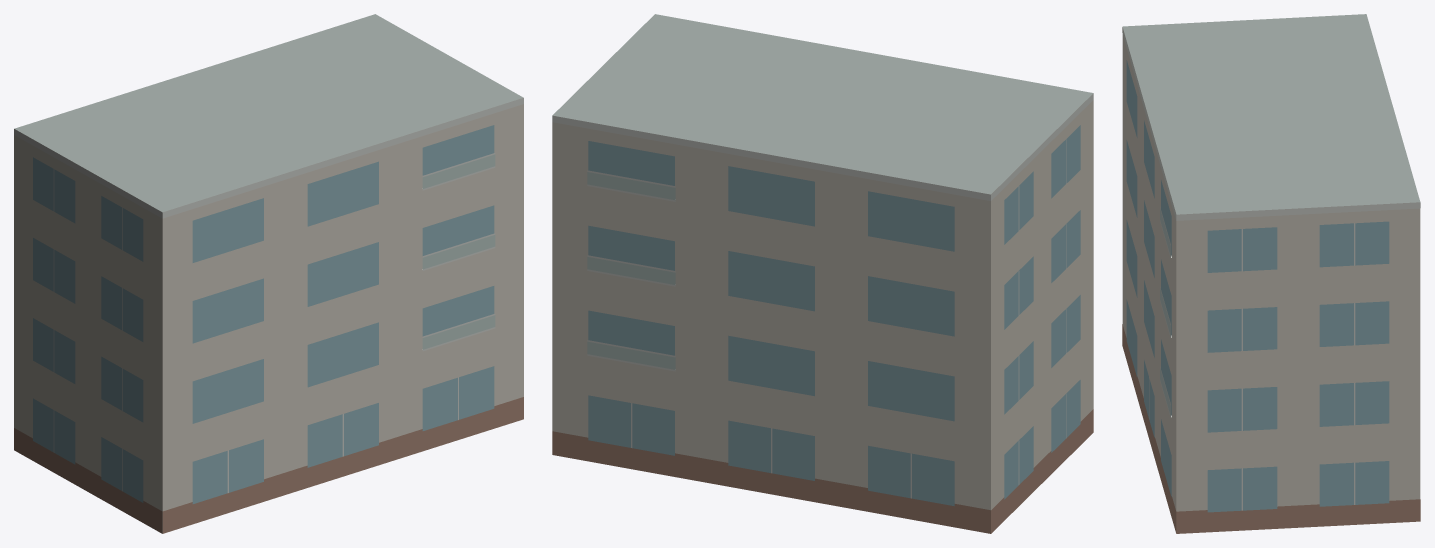
File: survey-upis-32715436.glb
The picture shows the model from 3 angles, left to right: view 1: azimuth 30°, elevation 25°; view 2: azimuth 150°, elevation 25°; view 3: azimuth 270°, elevation 25°; orthographic projection. The views are drawn at different scales.
Visible parts, largest first — view 1: survey-upis-32715436.tmp; view 2: survey-upis-32715436.tmp; view 3: survey-upis-32715436.tmp.
Boxes of the visible parts, box(x1,y1,x2,y2) form: survey-upis-32715436.tmp: box(14, 14, 523, 533); survey-upis-32715436.tmp: box(552, 14, 1093, 533); survey-upis-32715436.tmp: box(1122, 14, 1420, 533).
Size of the model in its own units: 16.86 by 12.5 by 10.59.
